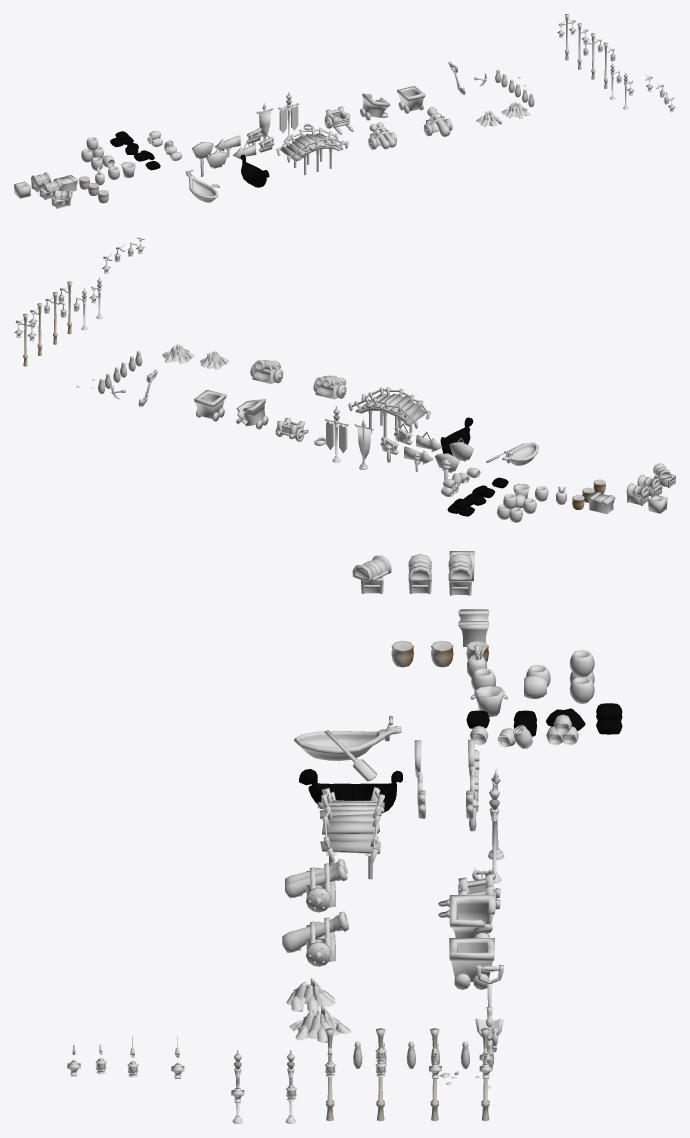
Rendered from Props_C.FBX.
The picture shows the model from 3 angles, top to bottom: view 1: azimuth 30°, elevation 25°; view 2: azimuth 150°, elevation 25°; view 3: azimuth 270°, elevation 25°; orthographic projection. The views are drawn at different scales.
Parts seen in each view (by area): view 1: M1050; view 2: M1050; view 3: M1050.
Boxes of the visible parts, bbox=[...] form: M1050: bbox=[14, 14, 675, 208]; M1050: bbox=[14, 237, 675, 522]; M1050: bbox=[67, 551, 622, 1123].
Bounding box in the file's own units: 4787 × 565 × 2035.
